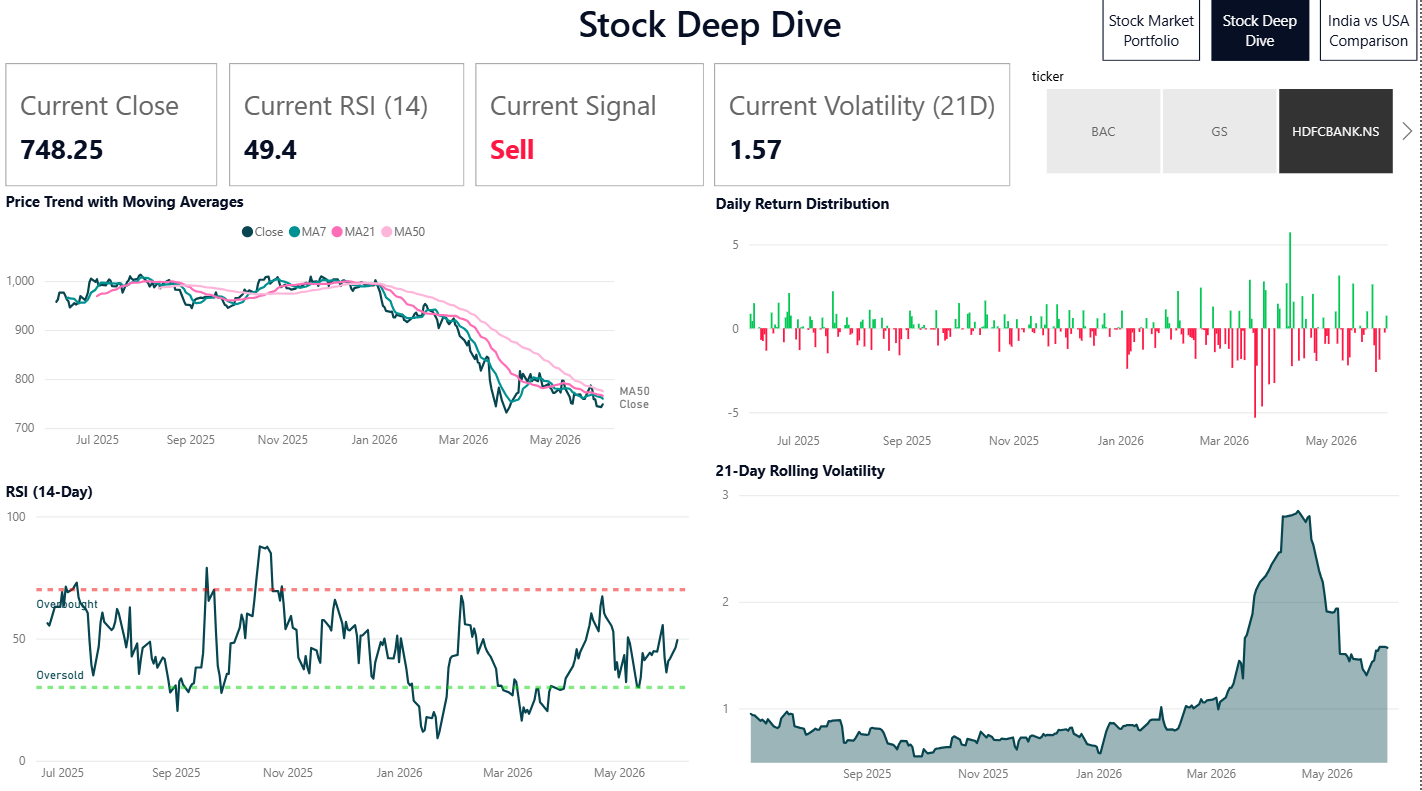

Layout of this report page (visuals, bound fields, positions):
{"tool":"powerbi","page":{"name":"Stock Deep Dive","canvas":[1280,720],"ordinal":1},"visuals":[{"type":"textbox","box":[0,0,1280.3,61.1],"z":0},{"type":"cardVisual","fields":{"Data":["stock_prices.Current Close"]},"box":[0,57.5,201.8,121.1],"z":1000},{"type":"cardVisual","fields":{"Data":["stock_prices.Latest RSI"]},"box":[201.8,57.5,222.6,121.1],"z":2000},{"type":"cardVisual","fields":{"Data":["stock_prices.Current Signal"]},"box":[424.3,57.5,216.4,121.1],"z":3000},{"type":"cardVisual","fields":{"Data":["stock_prices.Latest Volatility"]},"box":[639.5,57.5,277.6,121.1],"z":4000},{"type":"slicer","fields":{"Values":["stock_prices.ticker"]},"box":[917.5,61.2,362.5,107.5],"z":5000},{"type":"lineChart","title":"Price Trend with Moving Averages","fields":{"Y":["Avg(stock_prices.close)","Avg(stock_prices.ma_7)","Avg(stock_prices.ma_21)","Avg(stock_prices.ma_50)"],"Category":["stock_prices.date"]},"box":[0,178.5,605.3,240.9],"z":6000},{"type":"lineChart","title":"RSI (14-Day)","fields":{"Category":["stock_prices.date"],"Y":["Sum(stock_prices.rsi_14)"]},"box":[0,440,640,280],"z":7000},{"type":"clusteredColumnChart","title":"Daily Return Distribution","fields":{"Y":["Sum(stock_prices.daily_return_pct)"],"Category":["stock_prices.date"]},"box":[640,178.8,640,241.2],"z":8000},{"type":"areaChart","title":"21-Day Rolling Volatility","fields":{"Y":["Sum(stock_prices.volatility_21)"],"Category":["stock_prices.date"]},"box":[640,420,640,300],"z":9000},{"type":"pageNavigator","box":[994.2,3.7,286.1,57.5],"z":9001}]}

Visuals, with their boxes in screenshot pixels (x1, y1, x2, y2), scaled from the page's 1280x720 canvas onto the 1422x791 screenshot:
textbox: (0,0,1421,67)
cardVisual - stock_prices.Current Close: (0,63,224,196)
cardVisual - stock_prices.Latest RSI: (224,63,471,196)
cardVisual - stock_prices.Current Signal: (471,63,712,196)
cardVisual - stock_prices.Latest Volatility: (710,63,1019,196)
slicer - stock_prices.ticker: (1019,67,1421,185)
"Price Trend with Moving Averages" lineChart: (0,196,672,461)
"RSI (14-Day)" lineChart: (0,483,711,790)
"Daily Return Distribution" clusteredColumnChart: (711,196,1421,461)
"21-Day Rolling Volatility" areaChart: (711,461,1421,790)
pageNavigator: (1104,4,1421,67)
